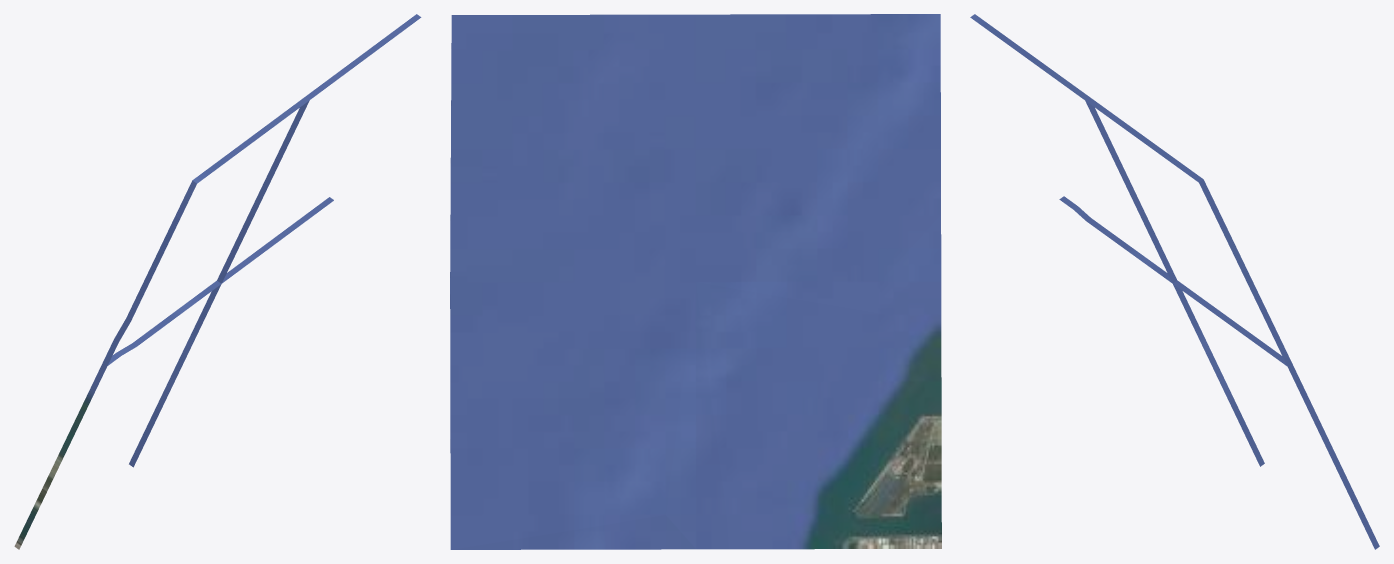
3 renders of one model, left to right at view 1: azimuth 30°, elevation 25°; view 2: azimuth 150°, elevation 25°; view 3: azimuth 270°, elevation 25°, orthographic. The views are drawn at different scales.
Size of the model in its own units: 19670 by 17982 by 16204.
Materials: 1 (1 with a texture image).
